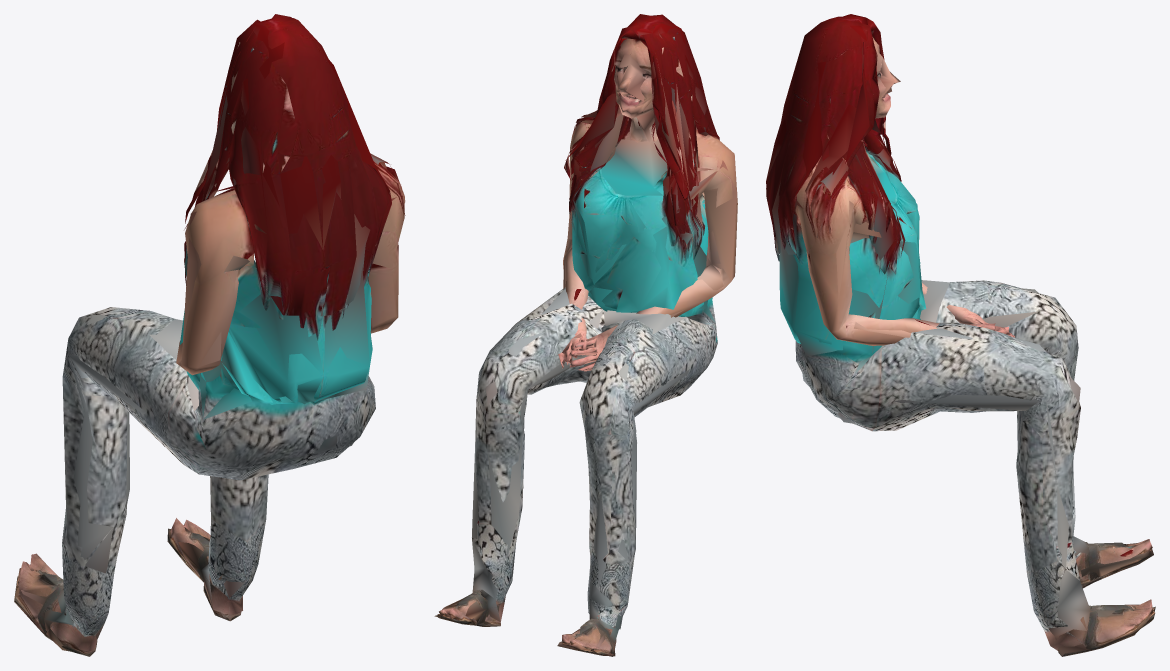
Rendered from persona-03.glb.
3 renders of one model, left to right at view 1: azimuth 30°, elevation 25°; view 2: azimuth 150°, elevation 25°; view 3: azimuth 270°, elevation 25°, orthographic. The views are drawn at different scales.
Parts seen in each view (by area): view 1: cerca, lejos; view 2: cerca, lejos; view 3: cerca, lejos.
Boxes of the visible parts, box(x1,y1,x2,y2) form: cerca: box(14, 14, 405, 656); lejos: box(14, 18, 396, 651); cerca: box(437, 14, 737, 656); lejos: box(434, 18, 737, 656); cerca: box(766, 16, 1155, 656); lejos: box(766, 14, 1154, 656).
Bounding box in the file's own units: 0.4373 × 1.39 × 0.8117.
2 materials, 1 textured.
